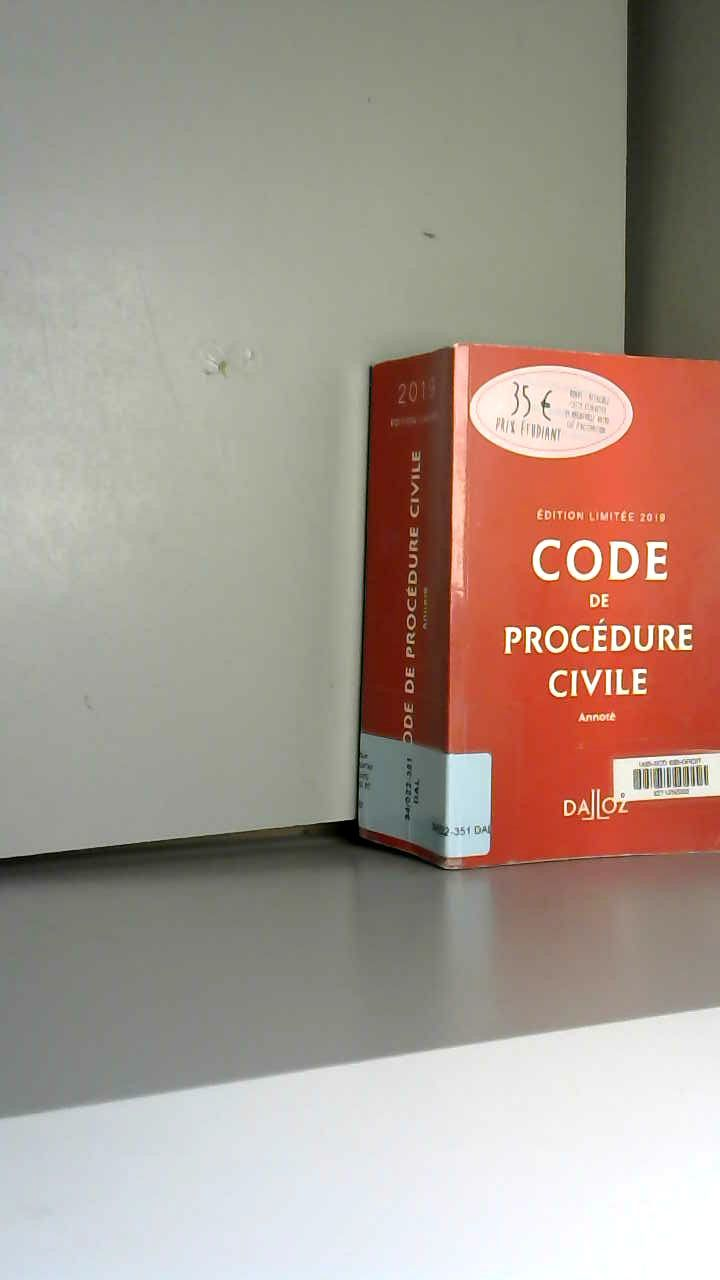book: (330, 310, 720, 888)
